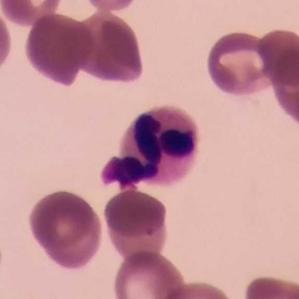Neutrophil: (95, 100, 207, 195)
RBC: (26, 186, 106, 273), (72, 11, 148, 86), (22, 11, 97, 86), (100, 186, 171, 263), (203, 27, 276, 99), (110, 248, 189, 299), (267, 36, 299, 132), (255, 26, 299, 92), (0, 0, 65, 27), (157, 278, 239, 299), (240, 272, 298, 299), (0, 4, 14, 79), (74, 0, 146, 14)
